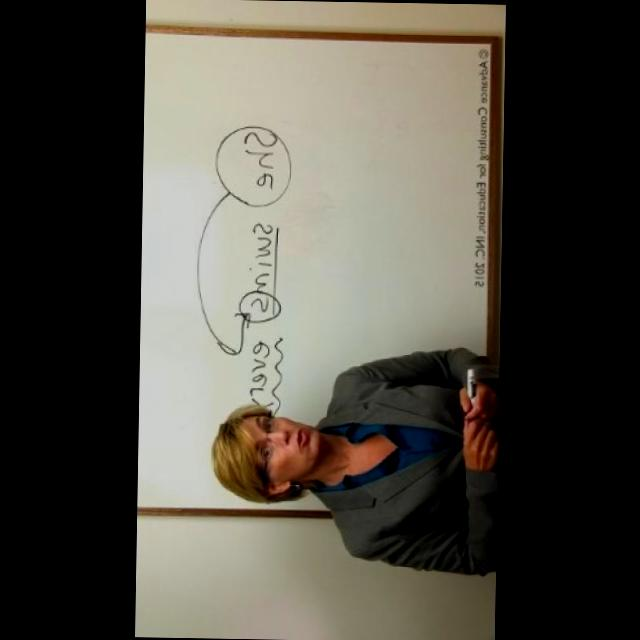Instructor: (211, 370, 504, 572)
White-board: (136, 32, 495, 522)
